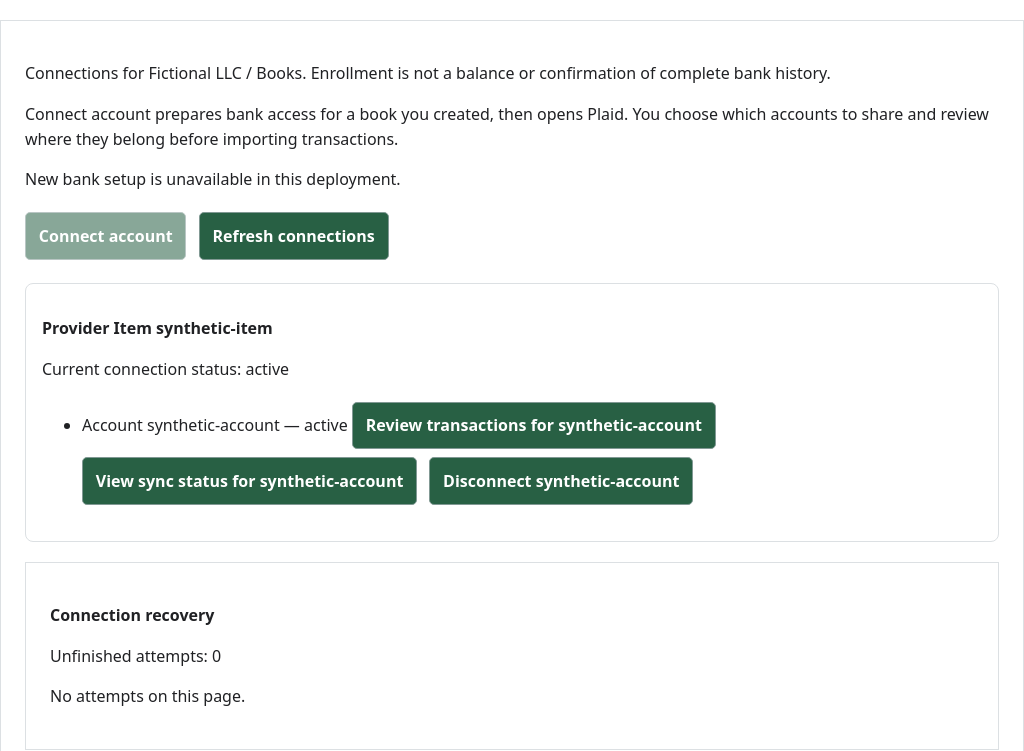
Test: shows quarantined unsupported_currency as stopped instead of promising queued work
Click the button "View sync status for synthetic-account" at (250, 481), box [82,457,417,505]
(page scrolled)
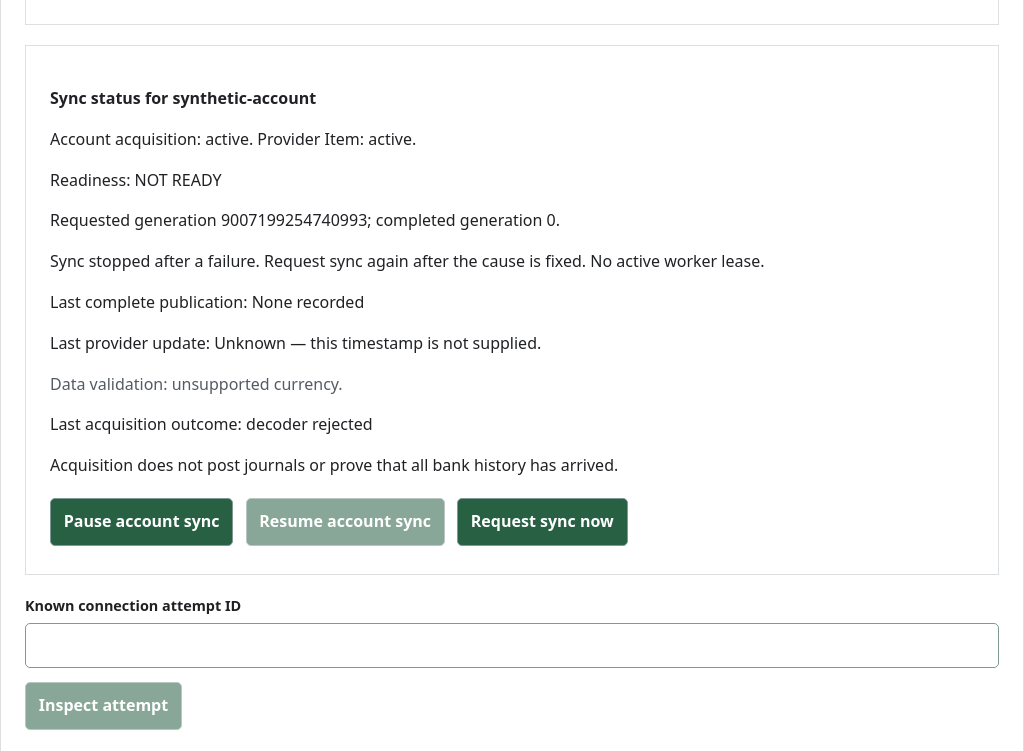
Expected: the text "Sync stopped after a failure" is shown, [50,250,586,272]
